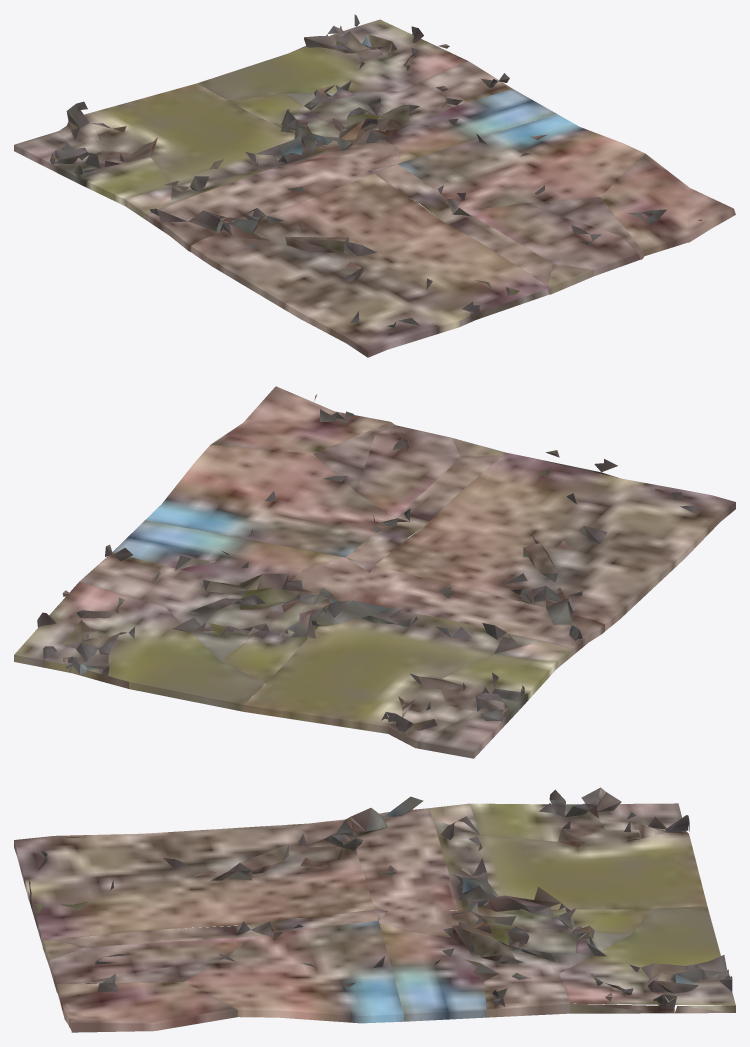
3 views of the same model, one above another, from view 1: azimuth 30°, elevation 25°; view 2: azimuth 150°, elevation 25°; view 3: azimuth 270°, elevation 25° (orthographic). The views are drawn at different scales.
Parts seen in each view (by area): view 1: Mesh_0; view 2: Mesh_0; view 3: Mesh_0.
Part boxes in pixels (x1,y1,x2,y2): Mesh_0: (14, 14, 735, 357); Mesh_0: (14, 386, 735, 758); Mesh_0: (14, 787, 735, 1032).
Bounding box in the file's own units: 535 × 44.54 × 659.
Materials: 1 (1 with a texture image).
